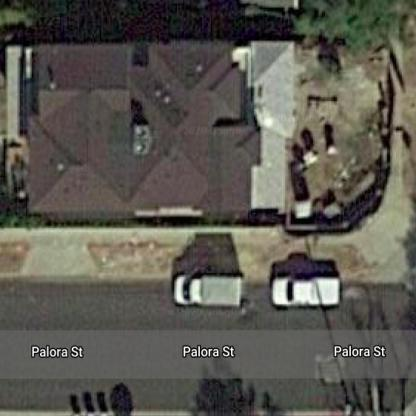car: (272, 262, 345, 317), (175, 266, 248, 314)
